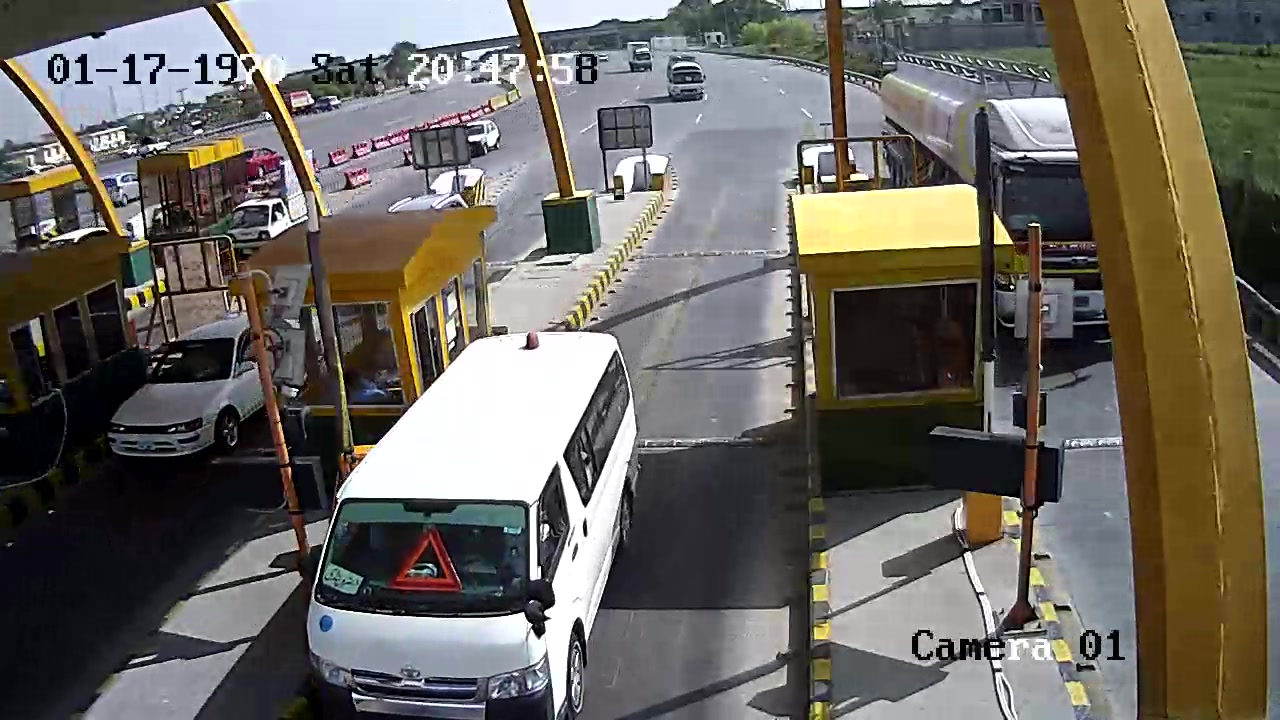F3: (315, 326, 647, 720)
